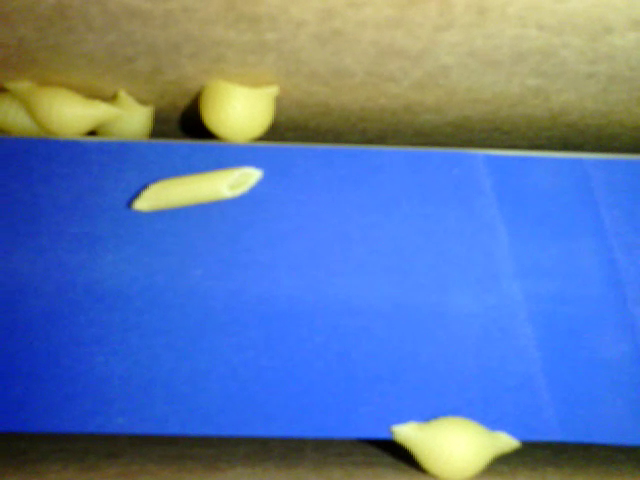penne: (129, 164, 265, 212)
shell: (388, 419, 523, 479), (3, 78, 130, 134), (194, 76, 282, 146), (88, 87, 154, 143), (1, 93, 52, 135)
